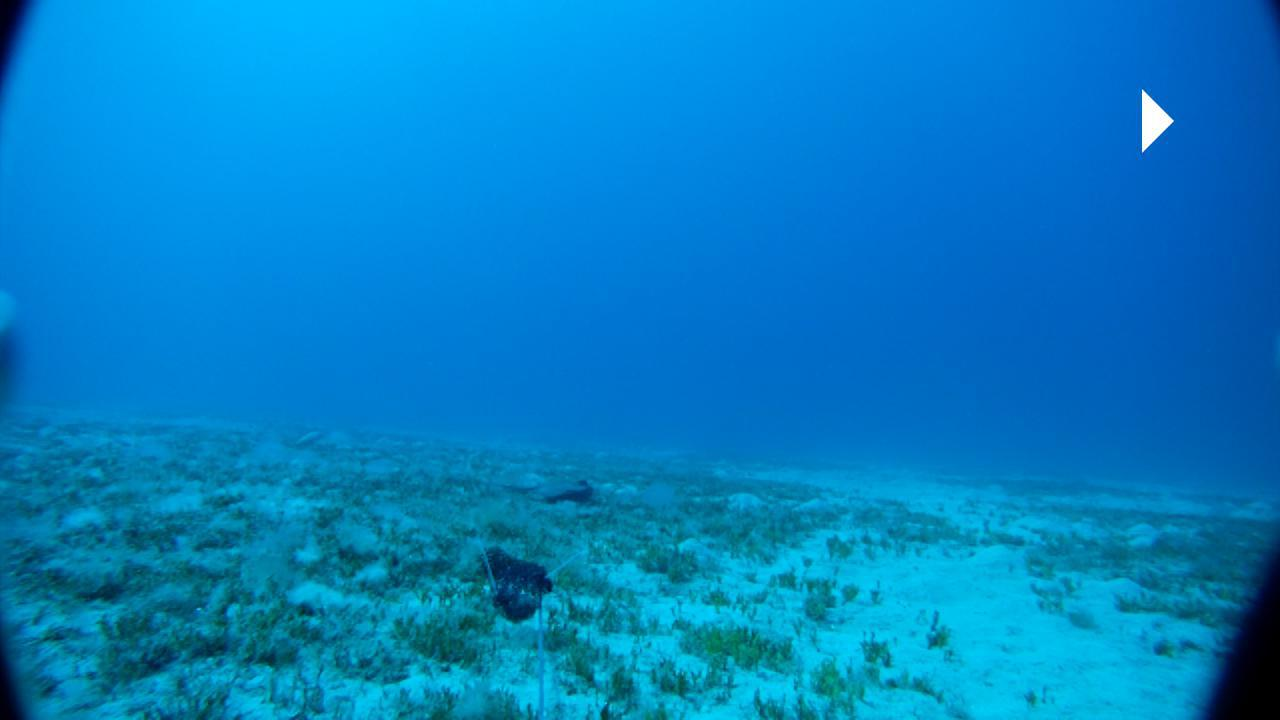dasyatis: (488, 480, 592, 506)
